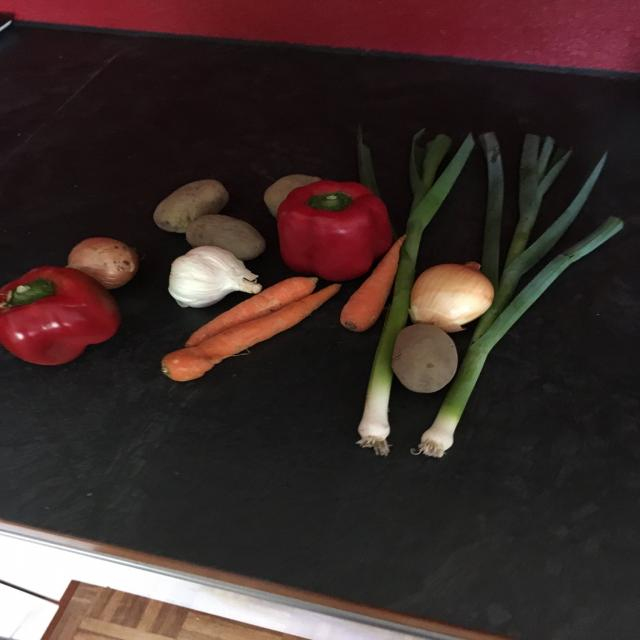Carrot: (158, 273, 336, 384), (335, 233, 416, 332)
Garlic bulb: (165, 246, 265, 310)
Onion: (406, 258, 498, 331), (62, 227, 140, 289)
Potato: (391, 322, 463, 397), (151, 174, 234, 235), (180, 212, 272, 259), (261, 173, 324, 215)
